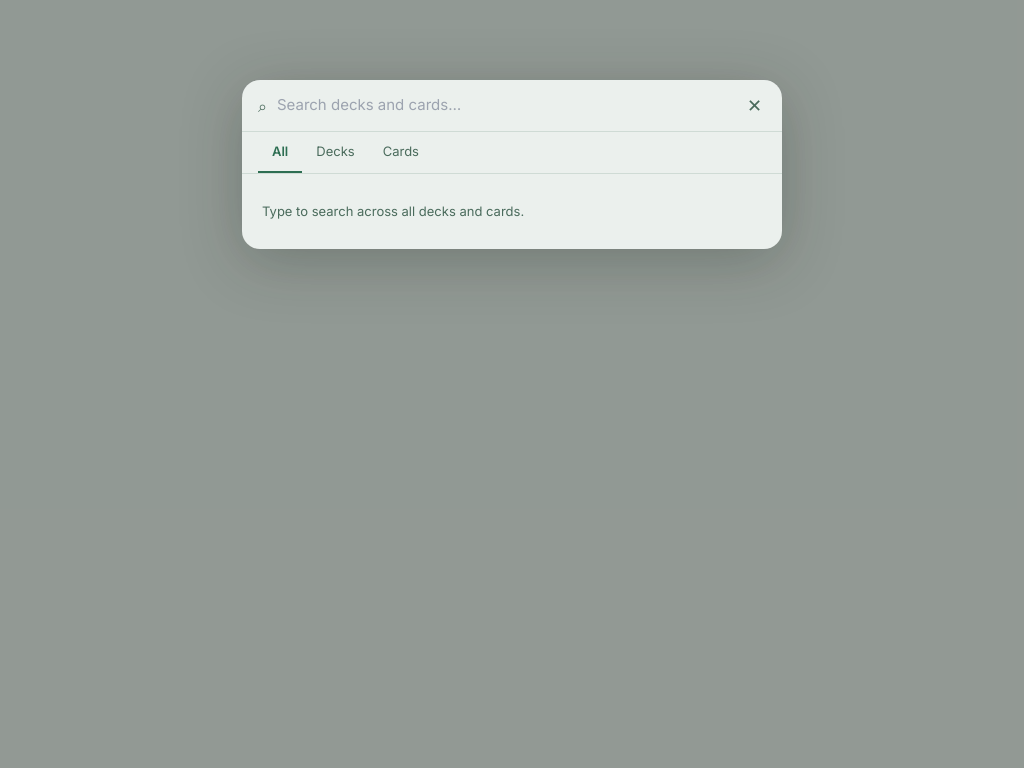
Test: SearchModal › shows matching deck in All tab
Type "Cardio" into the field with test id "search-input" at (510, 106), box 277,94 -> 743,117
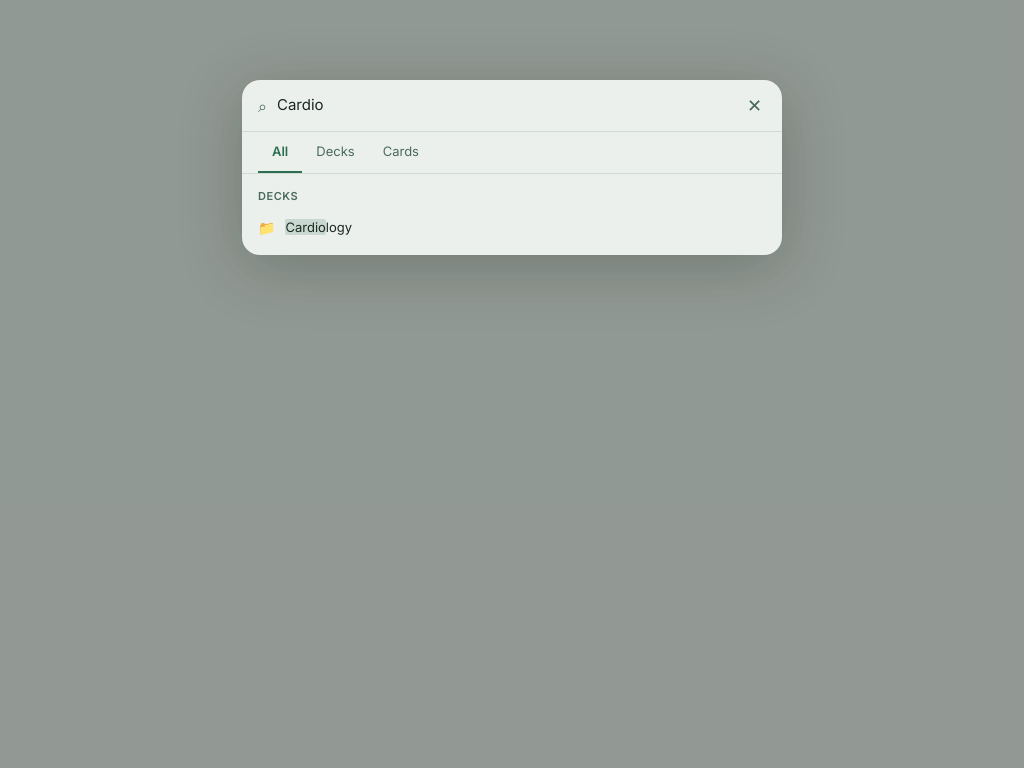
expect the button with test id "search-deck-result-Cardiology" is shown: met, box 242,208 -> 782,247
